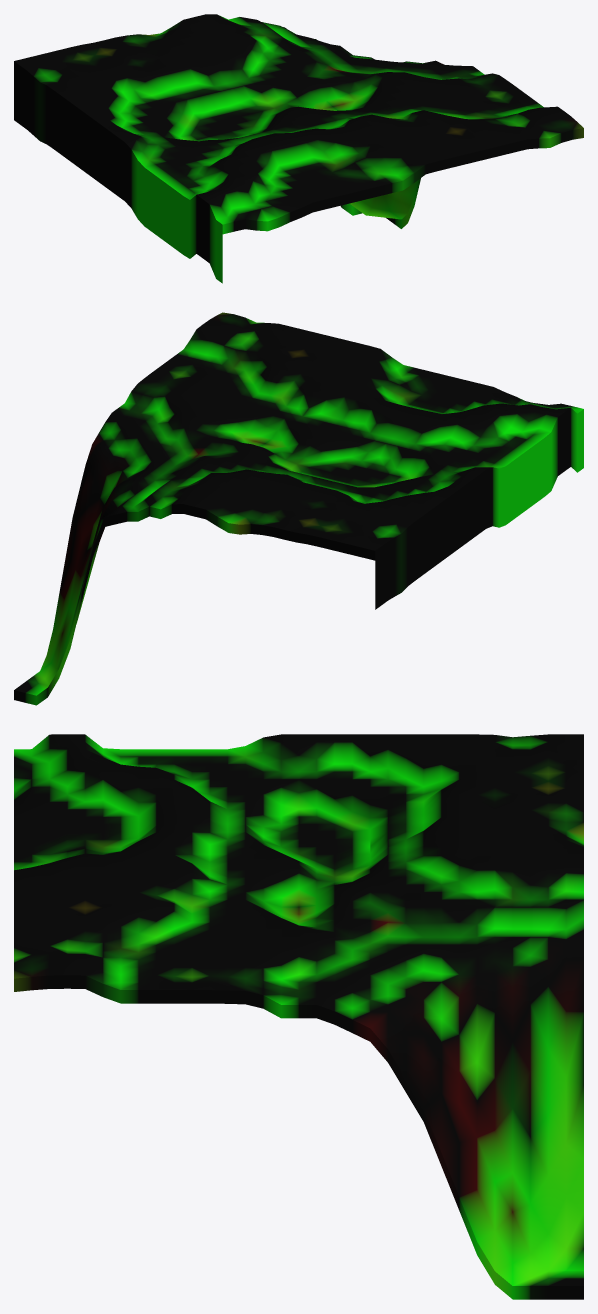
The model's file is Terrain_06_07.fbx.
3 renders of one model, top to bottom at view 1: azimuth 30°, elevation 25°; view 2: azimuth 150°, elevation 25°; view 3: azimuth 270°, elevation 25°, orthographic. The views are drawn at different scales.
Visible parts, largest first — view 1: Terrain_06_07_LOD0; view 2: Terrain_06_07_LOD0; view 3: Terrain_06_07_LOD0.
Boxes of the visible parts, x1,y1,x2,y2 form: Terrain_06_07_LOD0: [14, 14, 583, 283]; Terrain_06_07_LOD0: [14, 312, 583, 705]; Terrain_06_07_LOD0: [14, 734, 583, 1299].
Size of what is drawn, in the model's own units: 384 by 241 by 384.
